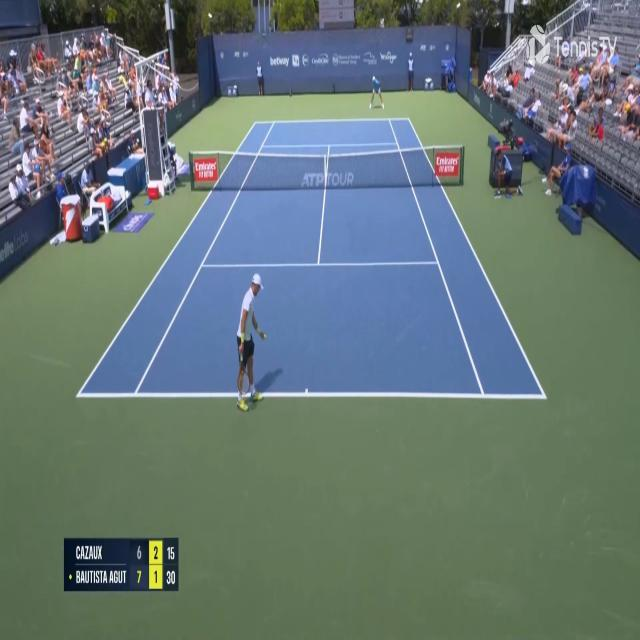tennis-player: (232, 267, 266, 416), (368, 74, 384, 110)
